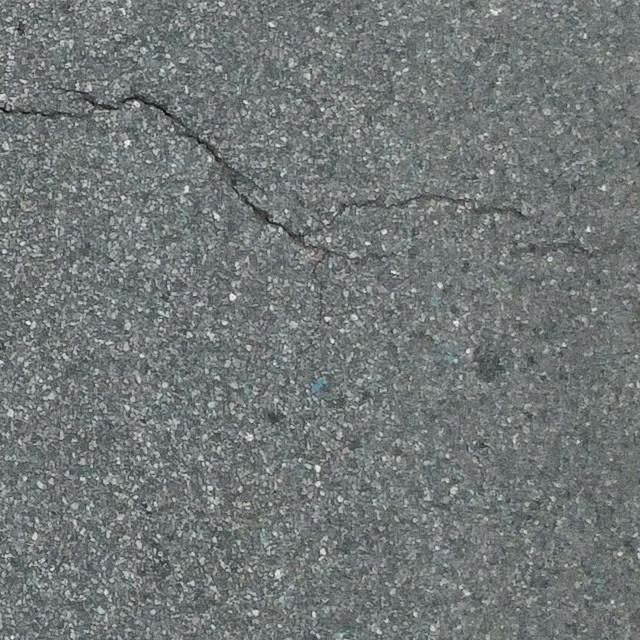TransverseCrack: (6, 89, 364, 262), (313, 192, 530, 229)
